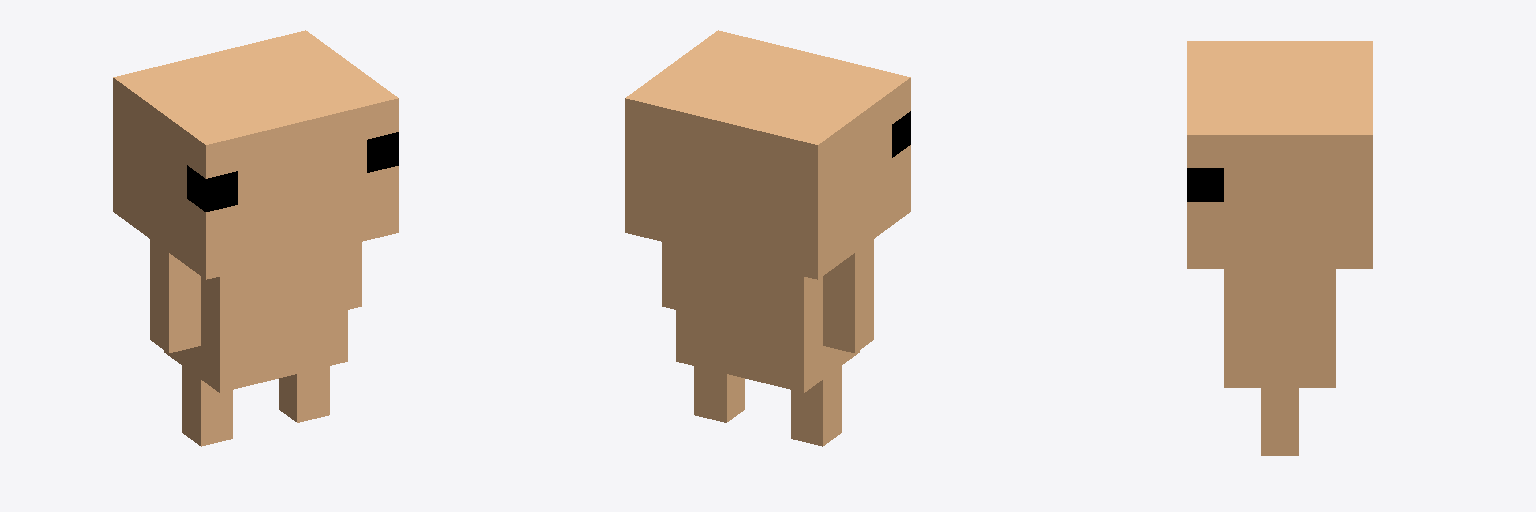
3 views of the same model, side by side, from view 1: azimuth 30°, elevation 25°; view 2: azimuth 150°, elevation 25°; view 3: azimuth 270°, elevation 25° (orthographic).
Visible parts, largest first — view 1: object 1; view 2: object 1; view 3: object 1.
Part boxes in pixels (bbox=[...]): object 1: bbox=[113, 30, 398, 446]; object 1: bbox=[625, 30, 910, 446]; object 1: bbox=[1187, 41, 1372, 455].
Size of the model in its own units: 0.6 by 1 by 0.5.
Materials: 1 (1 with a texture image).